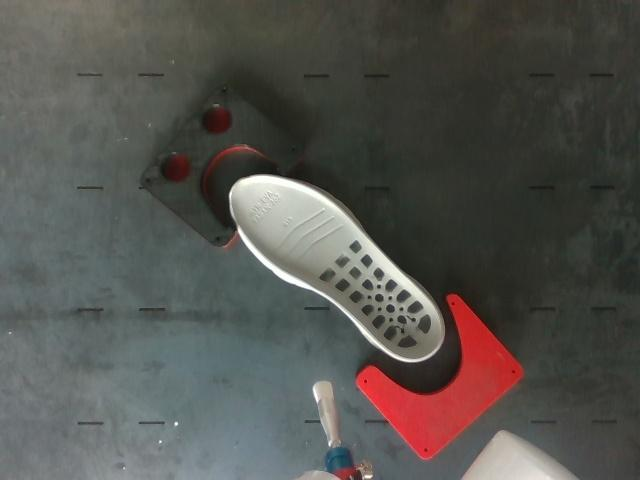shoes: (231, 176, 442, 360)
